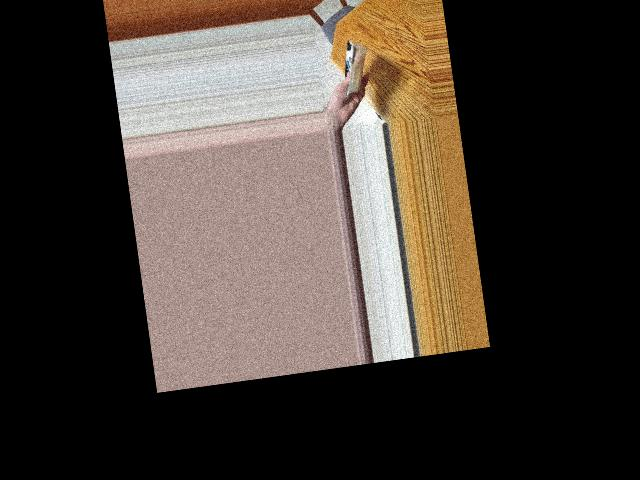cheese: (327, 39, 377, 96)
